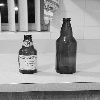beer: (57, 17, 81, 78)
